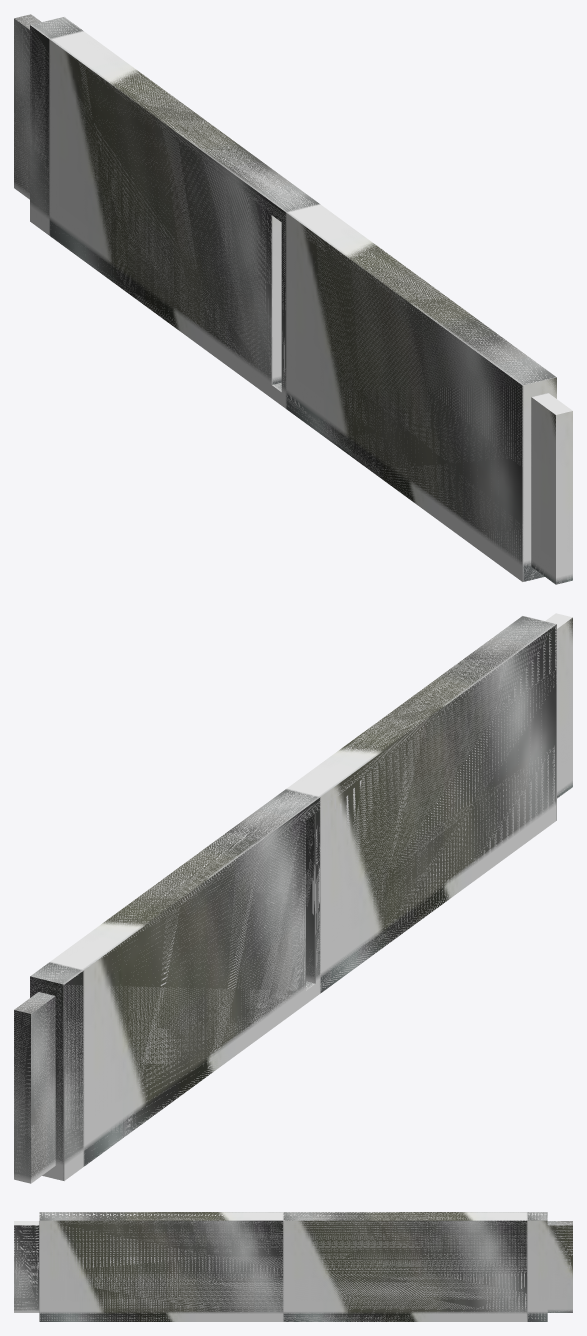
Rendered from original-45.obj.
3 renders of one model, top to bottom at view 1: azimuth 30°, elevation 25°; view 2: azimuth 150°, elevation 25°; view 3: azimuth 270°, elevation 25°, orthographic. The views are drawn at different scales.
Visible parts, largest first — view 1: Component_2_2/Component_2_1_2/mesh20/mesh20-geometry#mesh20-geom; view 2: Component_2_2/Component_2_1_2/mesh20/mesh20-geometry#mesh20-geom; view 3: Component_2_2/Component_2_1_2/mesh20/mesh20-geometry#mesh20-geom.
Boxes of the visible parts, box(x1,y1,x2,y2) form: Component_2_2/Component_2_1_2/mesh20/mesh20-geometry#mesh20-geom: box(14, 14, 572, 584); Component_2_2/Component_2_1_2/mesh20/mesh20-geometry#mesh20-geom: box(14, 613, 572, 1183); Component_2_2/Component_2_1_2/mesh20/mesh20-geometry#mesh20-geom: box(14, 1212, 572, 1321).
Bounding box in the file's own units: 0.0175 × 0.0964 × 0.4819.
